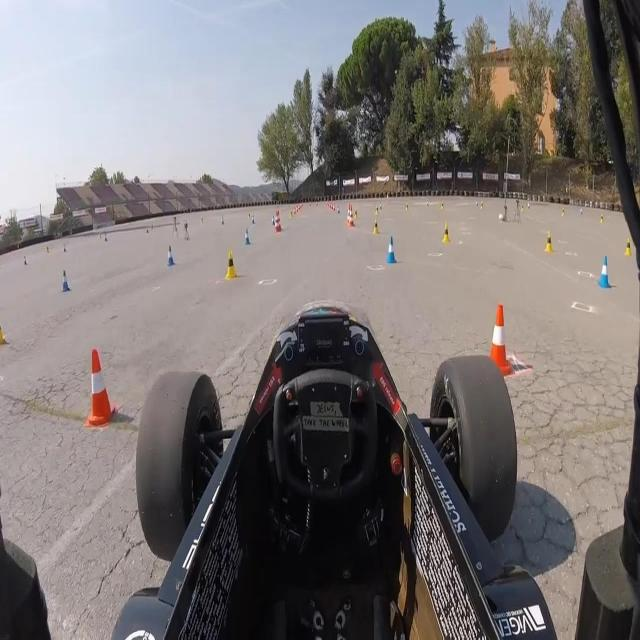blue_cone: (598, 255, 610, 290), (386, 237, 396, 266), (62, 269, 69, 292), (167, 245, 174, 268), (244, 228, 251, 246)
large_orange_cone: (276, 211, 282, 232), (275, 210, 280, 232), (349, 205, 354, 227), (347, 204, 351, 226)
orange_cone: (82, 343, 116, 430), (486, 302, 512, 378)
yellow_cone: (224, 249, 236, 279), (545, 230, 554, 254), (442, 222, 451, 244), (624, 237, 632, 257), (373, 218, 379, 234), (600, 213, 604, 225)
